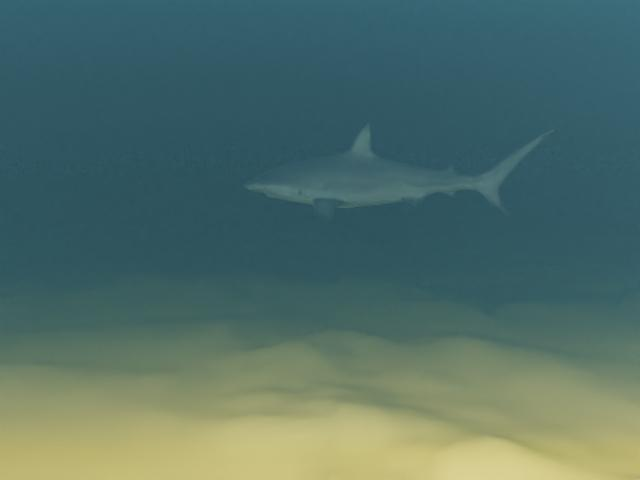Carribean Shark.001: (244, 122, 555, 222)
